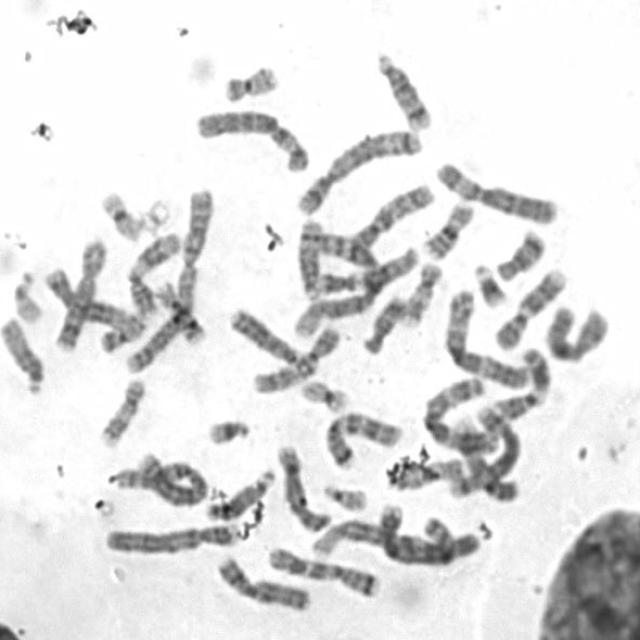A1: (286, 225, 384, 340), (307, 514, 478, 567)
A2: (120, 183, 216, 375), (115, 449, 210, 508)
A3: (439, 283, 533, 388), (418, 369, 501, 456)
B4: (372, 498, 482, 567), (101, 516, 241, 557)
B5: (293, 123, 426, 217), (42, 260, 138, 332)
C10: (248, 320, 343, 396), (345, 176, 437, 250)
C11: (122, 226, 182, 317), (488, 341, 553, 422)
C12: (42, 260, 138, 332), (308, 241, 422, 297)
C6: (430, 155, 560, 226), (191, 102, 313, 175)
C7: (262, 541, 382, 598), (320, 404, 406, 472)
C8: (49, 235, 108, 352), (272, 438, 334, 534)
C9: (489, 262, 570, 352), (451, 408, 522, 503)
D13: (222, 301, 302, 367), (200, 463, 276, 523)
D14: (371, 45, 436, 133), (292, 213, 324, 301)
D15: (0, 311, 49, 397), (384, 452, 465, 492)
E16: (150, 274, 209, 346), (418, 196, 476, 262)
E17: (94, 372, 148, 449), (398, 256, 445, 328)
E18: (357, 290, 409, 356), (491, 223, 548, 282)
F19: (96, 184, 146, 242), (296, 373, 353, 414)
F20: (218, 58, 282, 103), (94, 308, 148, 355)
G21: (468, 257, 509, 309), (202, 412, 254, 446)
G22: (8, 266, 46, 324), (318, 478, 370, 512)
X: (212, 549, 316, 614), (539, 297, 613, 365)
